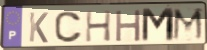C: (53, 11, 84, 44)
H: (84, 10, 113, 44), (115, 8, 143, 43)
K: (28, 11, 50, 45)
M: (140, 7, 176, 45), (171, 7, 206, 43)
